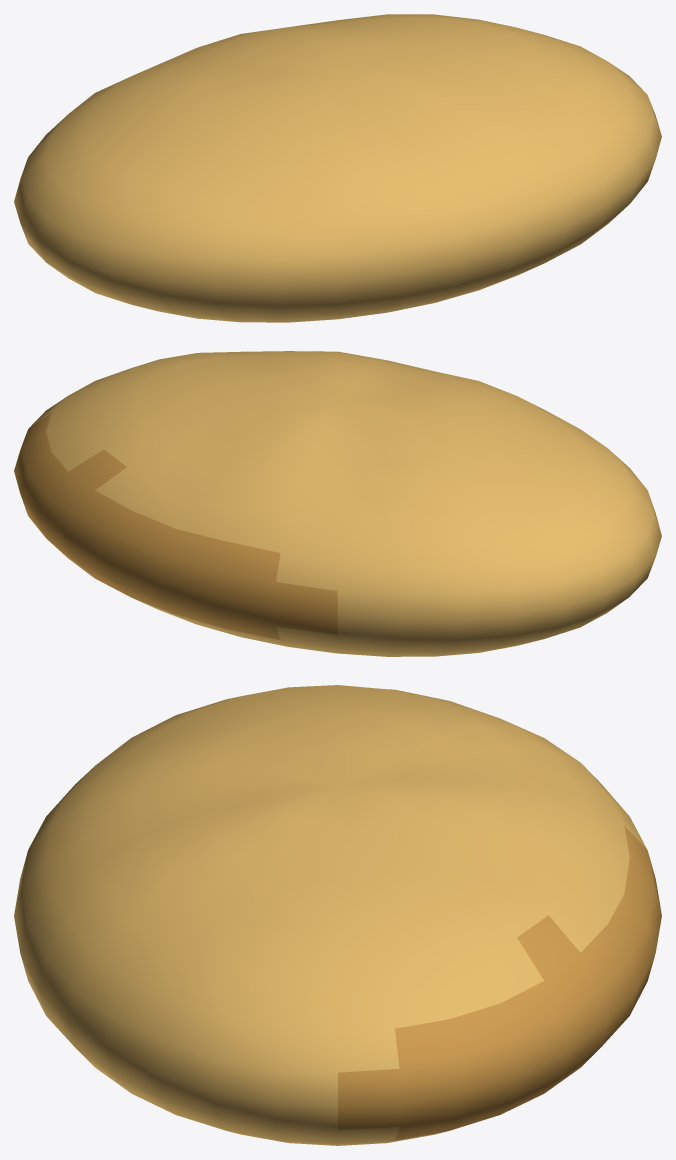
The model's file is dune.glb.
The picture shows the model from 3 angles, top to bottom: view 1: azimuth 30°, elevation 25°; view 2: azimuth 150°, elevation 25°; view 3: azimuth 270°, elevation 25°; orthographic projection. The views are drawn at different scales.
Parts seen in each view (by area): view 1: dune:mesh; view 2: dune:mesh; view 3: dune:mesh.
Part boxes in pixels (x1,y1,x2,y2): dune:mesh: (14,14,661,322); dune:mesh: (14,351,661,656); dune:mesh: (14,685,661,1145).
Size of the model in its own units: 5 by 1.6 by 3.6.
